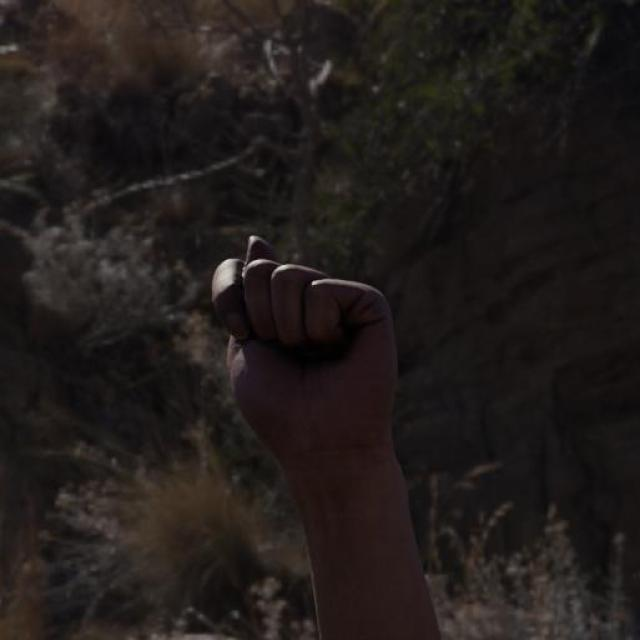T: (203, 230, 407, 465)
